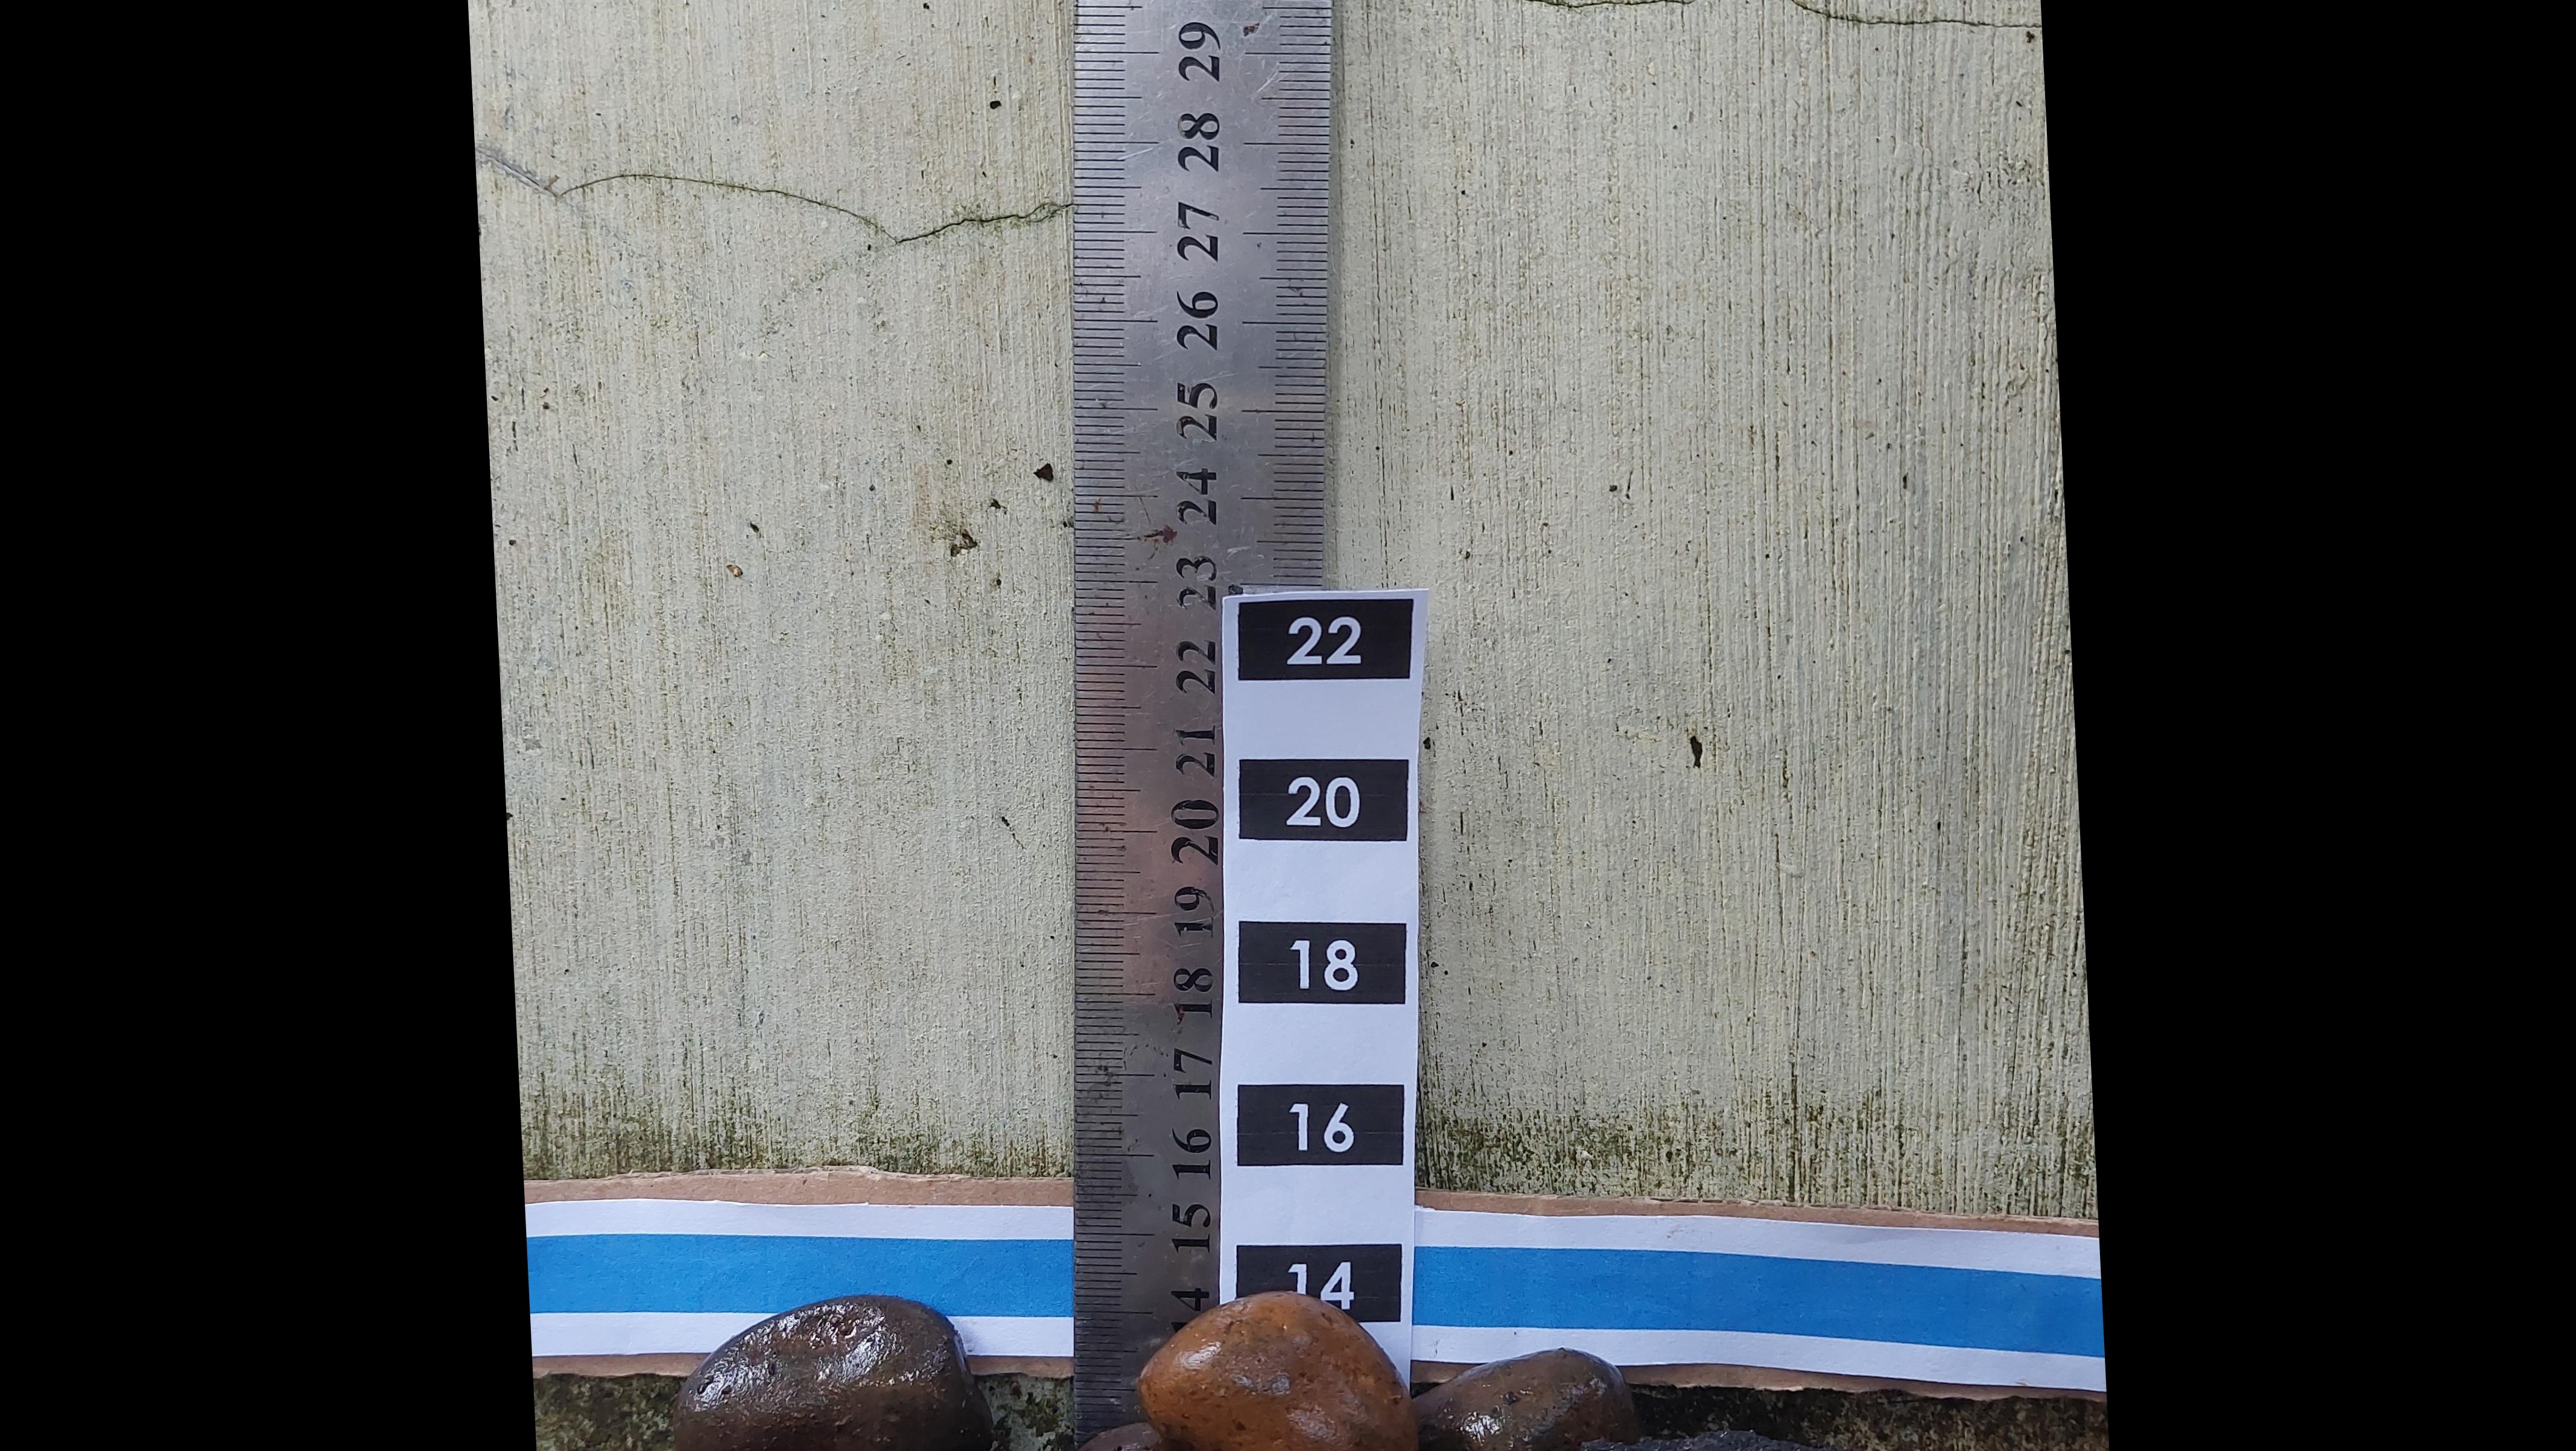kotak_2x1: (1235, 920, 1403, 1007), (1240, 598, 1408, 681), (1238, 759, 1408, 841), (1238, 1085, 1401, 1168)
